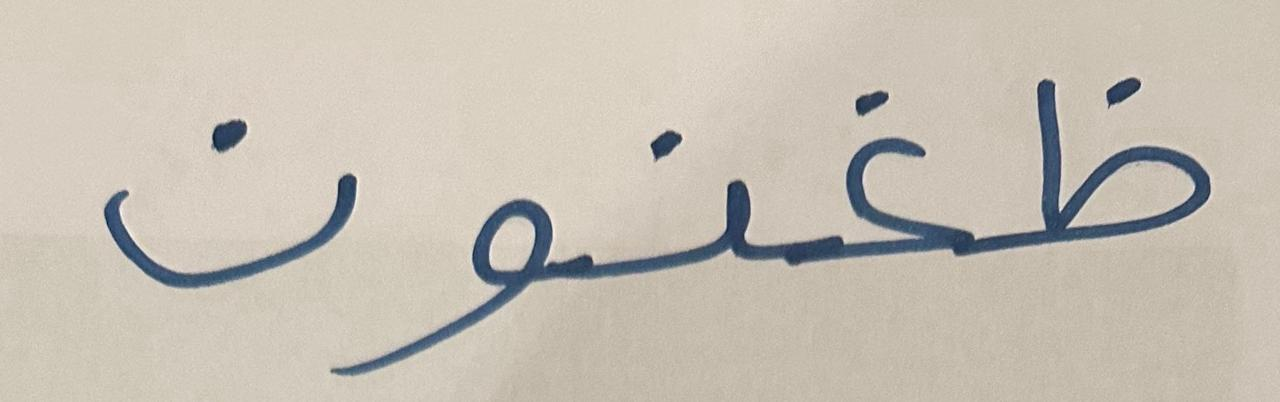ghain: (786, 25, 1000, 330)
qaf: (79, 53, 367, 339), (589, 69, 784, 326)
yeh: (369, 154, 586, 384)
zain: (1003, 22, 1261, 290)
